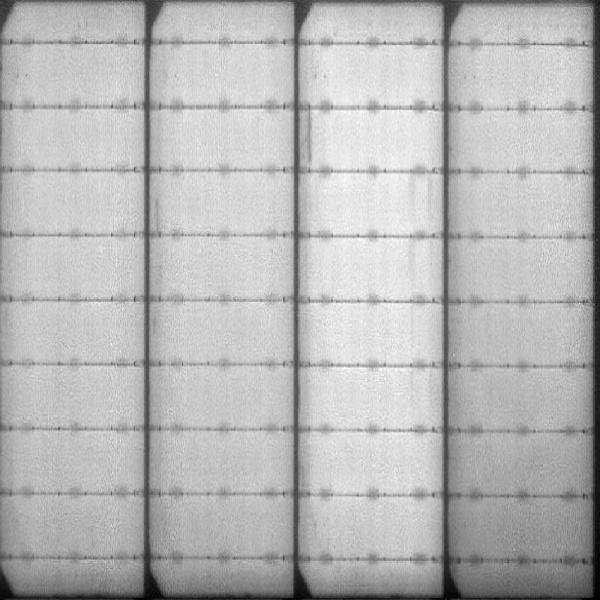scratch: (301, 107, 318, 170)
